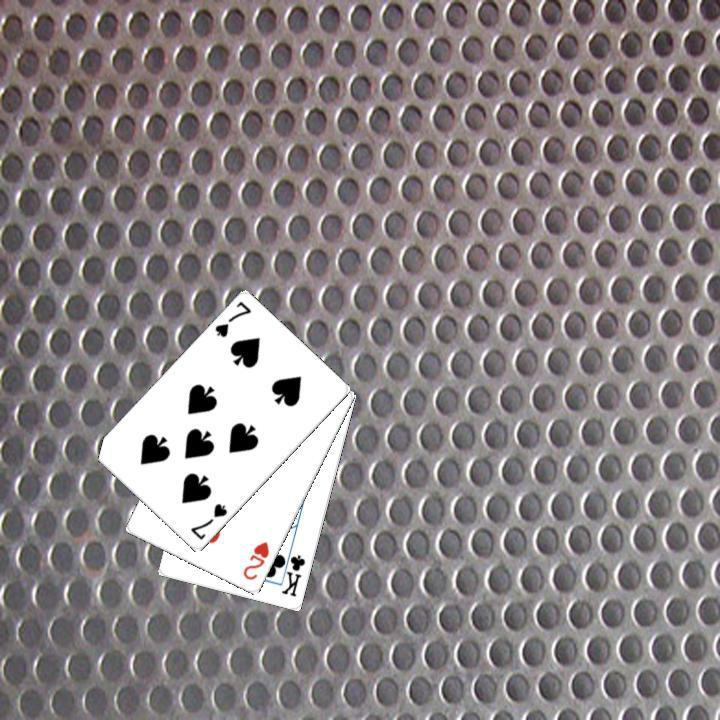2: (238, 537, 271, 582)
7: (186, 499, 229, 543), (210, 297, 253, 340)
K: (275, 544, 307, 599)
